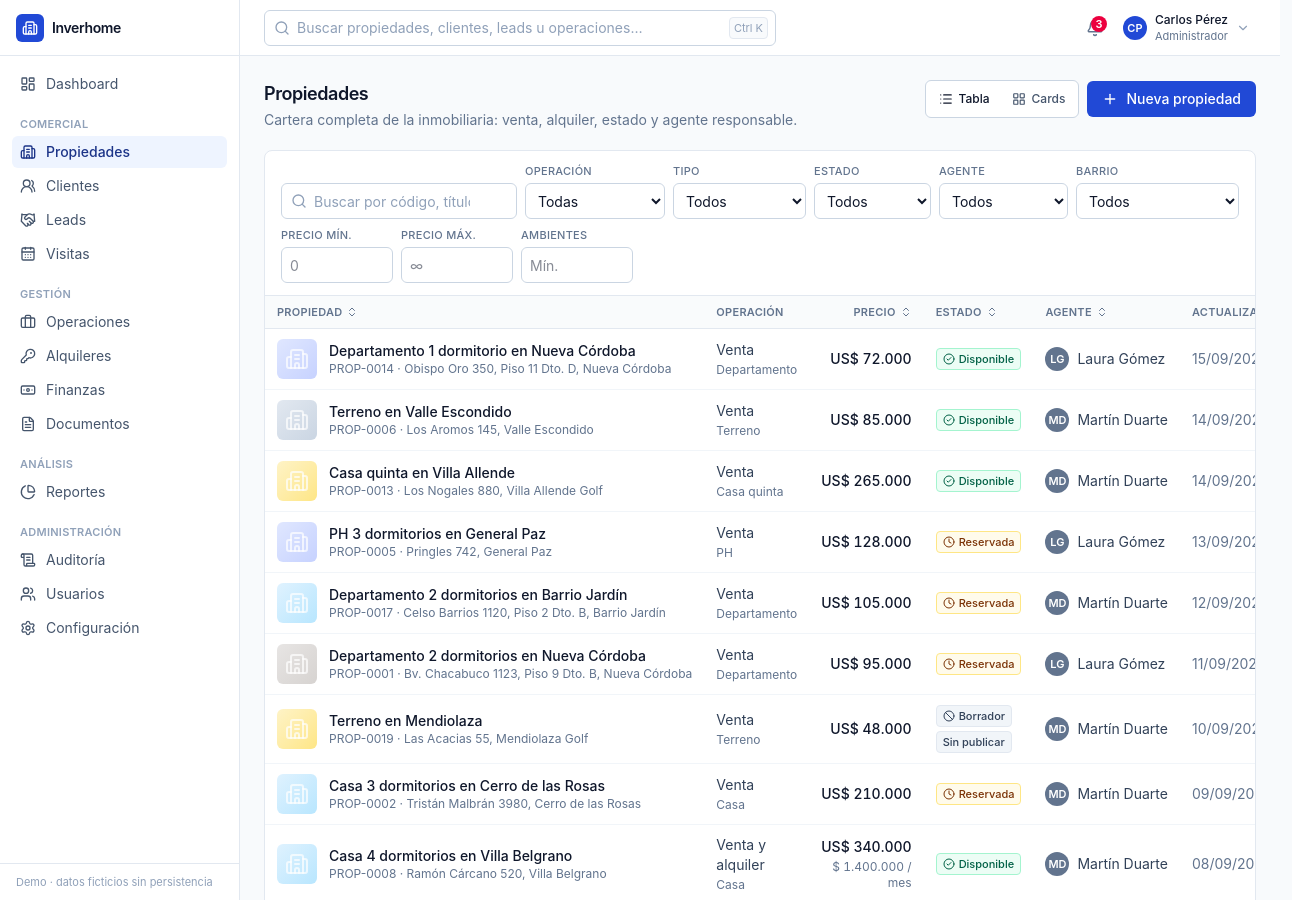
Propiedades › abre el detalle desde el listado
The image size is (1292, 900).
Step 1. Click the text "Departamento 2 dormitorios en Nueva Córdoba" → (511, 656), box top-left (329, 646), bottom-right (692, 666)
(page scrolled)
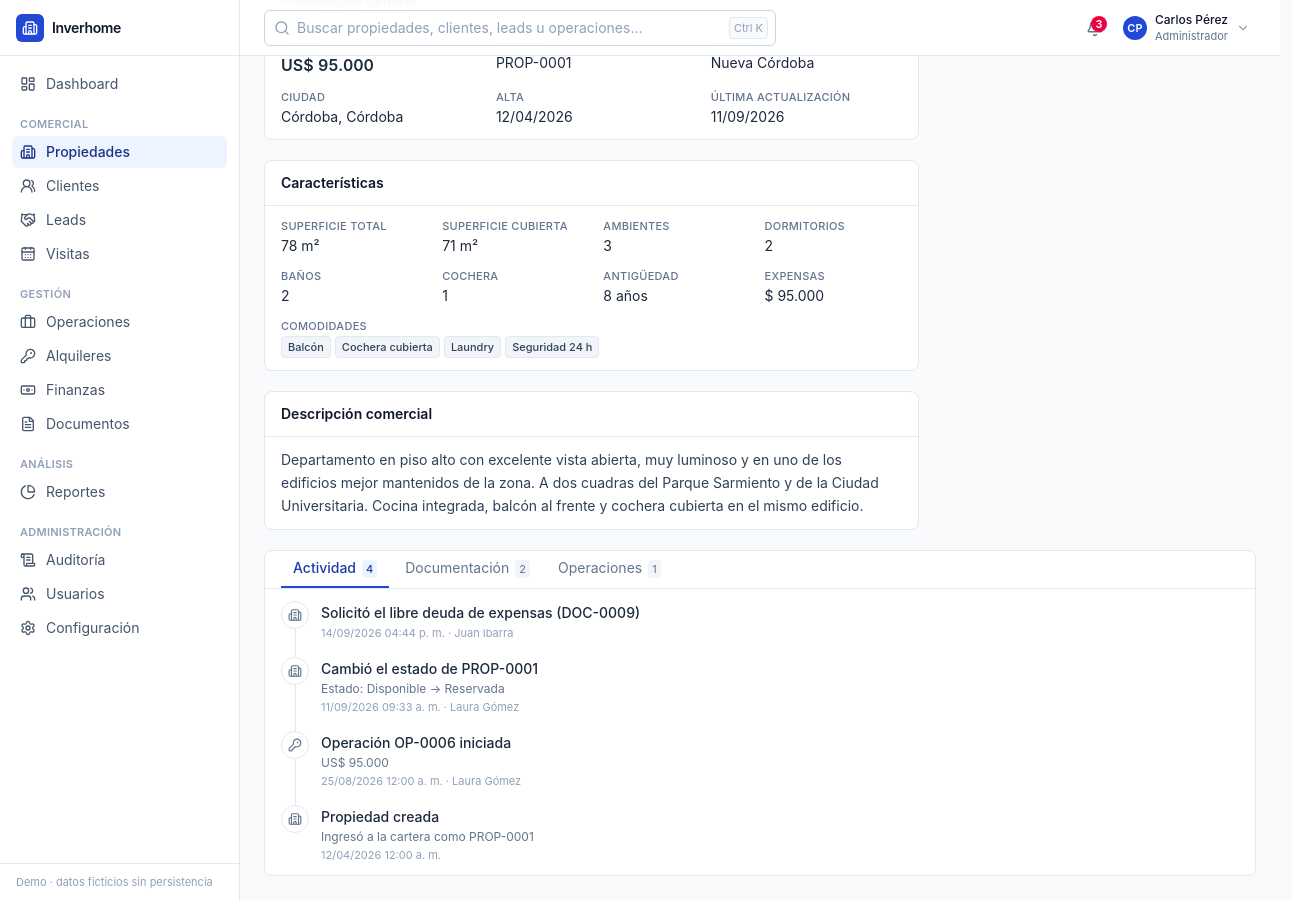
Expected: the heading "Características" is shown, top-left (281, 173), bottom-right (384, 193)
Expected: the tab "Actividad4" is shown, top-left (281, 551), bottom-right (389, 588)
